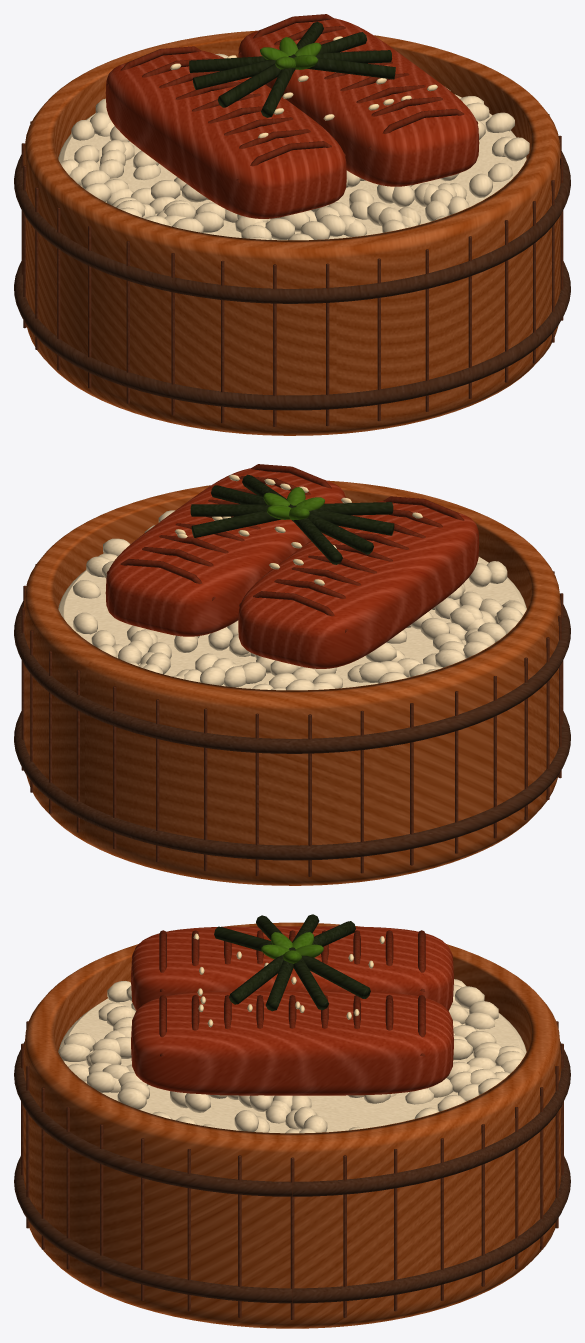
Rendered from 05-unagi-rice.glb.
3 renders of one model, top to bottom at view 1: azimuth 30°, elevation 25°; view 2: azimuth 150°, elevation 25°; view 3: azimuth 270°, elevation 25°, orthographic.
Parts seen in each view (by area): view 1: Honey wood grain, Caramelized eel glaze, Warm ivory rice, Barrel bronze bands, Warm earthenware, Roasted tea caramel, Nori seaweed, Fresh leaf, Radish ivory; view 2: Honey wood grain, Caramelized eel glaze, Warm ivory rice, Barrel bronze bands, Warm earthenware, Nori seaweed, Roasted tea caramel, Fresh leaf, Radish ivory; view 3: Honey wood grain, Caramelized eel glaze, Warm ivory rice, Barrel bronze bands, Warm earthenware, Nori seaweed, Roasted tea caramel, Fresh leaf, Radish ivory.
Part boxes in pixels (box(x1,y1,x2,y2)): Honey wood grain: box(23, 30, 561, 435); Caramelized eel glaze: box(105, 18, 479, 218); Warm ivory rice: box(58, 53, 529, 240); Barrel bronze bands: box(14, 151, 570, 410); Warm earthenware: box(21, 114, 563, 426); Roasted tea caramel: box(107, 14, 478, 182); Nori seaweed: box(189, 21, 395, 117); Fresh leaf: box(260, 37, 321, 69); Radish ivory: box(170, 36, 437, 138); Honey wood grain: box(23, 480, 561, 885); Caramelized eel glaze: box(105, 468, 479, 668); Warm ivory rice: box(58, 510, 526, 690); Barrel bronze bands: box(14, 601, 570, 860); Warm earthenware: box(21, 564, 563, 876); Nori seaweed: box(190, 474, 394, 564); Roasted tea caramel: box(106, 464, 477, 632); Fresh leaf: box(263, 487, 324, 520); Radish ivory: box(175, 474, 422, 585); Honey wood grain: box(23, 922, 561, 1328); Caramelized eel glaze: box(131, 926, 453, 1095); Warm ivory rice: box(58, 979, 526, 1133); Barrel bronze bands: box(14, 1041, 570, 1303); Warm earthenware: box(21, 1021, 563, 1319); Nori seaweed: box(214, 914, 370, 1011); Roasted tea caramel: box(159, 930, 425, 1056); Fresh leaf: box(261, 932, 323, 963); Radish ivory: box(193, 933, 384, 1027).
Bounding box in the file's own units: 0.0379 × 0.021 × 0.0379.
Materials: 9 (9 with a texture image).
